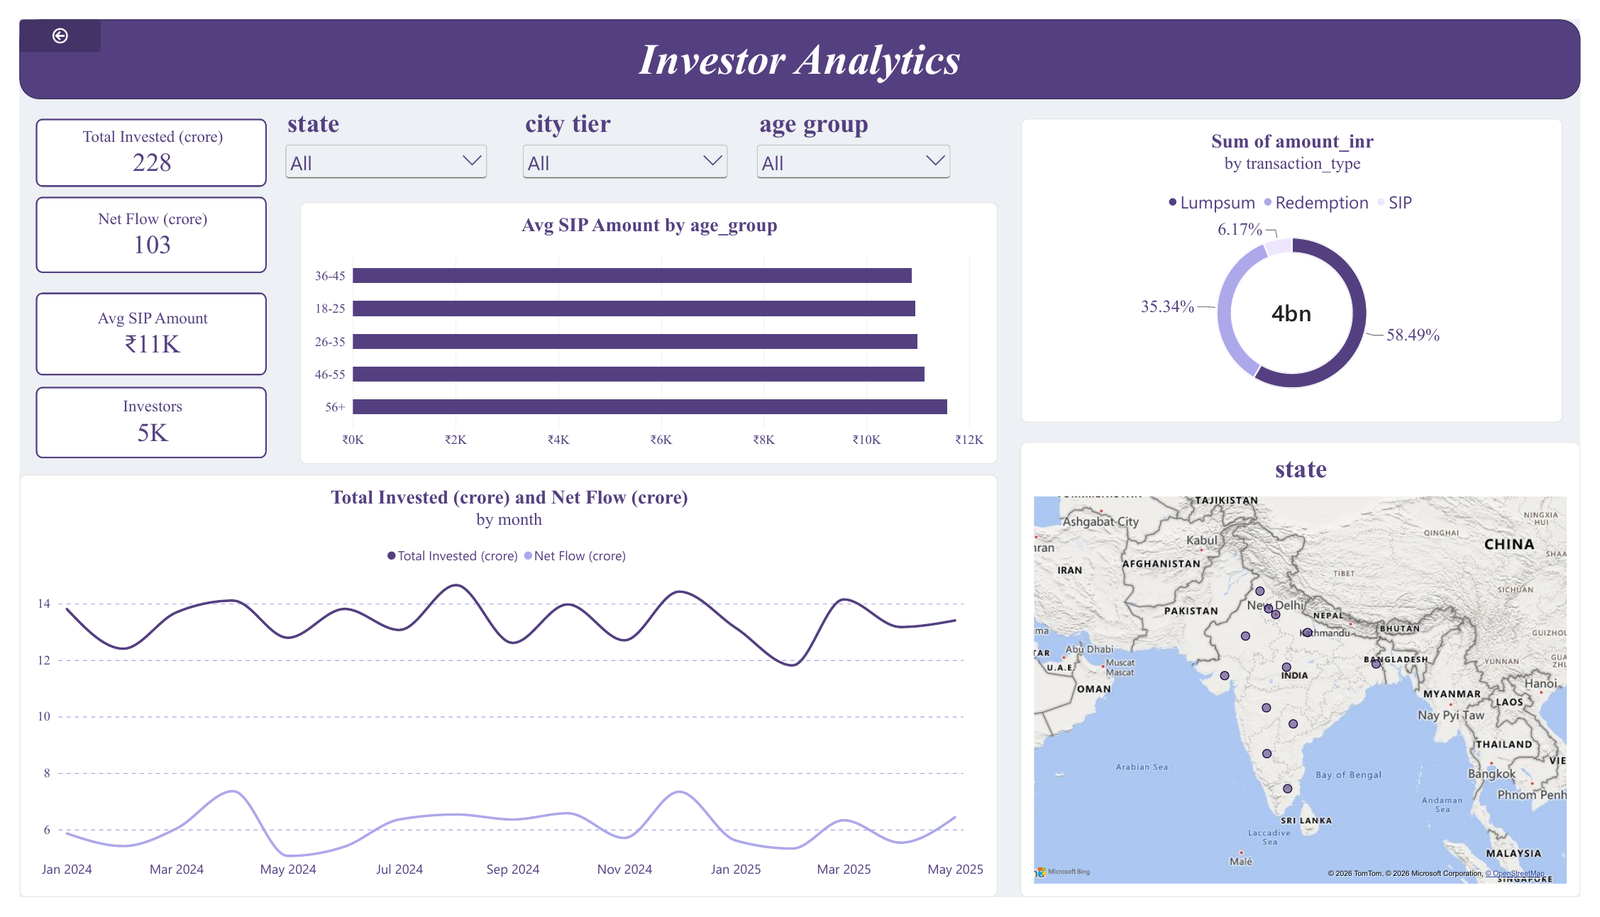

Layout of this report page (visuals, bound fields, positions):
{"tool":"powerbi","page":{"name":" Investor Analytics","canvas":[1920,1080],"ordinal":2},"visuals":[{"type":"shape","title":"Industry Overview","box":[0,0,1920.4,97.7],"z":0},{"type":"slicer","fields":{"Values":["transactions_enriched.state"]},"box":[322,110,258,96],"z":1000},{"type":"slicer","fields":{"Values":["transactions_enriched.age_group"]},"box":[901.7,109.9,248,96],"z":2000},{"type":"slicer","fields":{"Values":["transactions_enriched.city_tier"]},"box":[614,110,262,106],"z":3000},{"type":"actionButton","box":[0,0,100,40],"z":4000},{"type":"cardVisual","title":"Top-10 AMC AUM (lakh crore)","fields":{"Data":["transactions_enriched.Total Invested (crore)"]},"box":[20,122,284,84],"z":4001},{"type":"cardVisual","title":"Top-10 AMC AUM (lakh crore)","fields":{"Data":["transactions_enriched.Net Flow (crore)"]},"box":[20,218,284,94],"z":4002},{"type":"cardVisual","title":"Top-10 AMC AUM (lakh crore)","fields":{"Data":["transactions_enriched.Avg SIP Amount"]},"box":[20,336,284,102],"z":4003},{"type":"cardVisual","title":"Top-10 AMC AUM (lakh crore)","fields":{"Data":["transactions_enriched.Investors"]},"box":[20,452,284,88],"z":4004},{"type":"map","fields":{"Category":["transactions_enriched.state"]},"box":[1231.4,519.8,689,559.9],"z":4005},{"type":"donutChart","fields":{"Category":["transactions_enriched.transaction_type"],"Y":["Sum(transactions_enriched.amount_inr)"]},"box":[1232,122,666,374],"z":4006},{"type":"barChart","fields":{"Category":["transactions_enriched.age_group"],"Y":["transactions_enriched.Avg SIP Amount"]},"box":[345.3,225,858,322],"z":4007},{"type":"lineChart","fields":{"Category":["transactions_enriched.month"],"Y":["transactions_enriched.Total Invested (crore)","transactions_enriched.Net Flow (crore)"]},"box":[0,559.9,1203.5,519.8],"z":4008}]}

Visuals, with their boxes in screenshot pixels (x1, y1, x2, y2), scaled from the page's 1920x1080 canvas onto the 1600x917 screenshot:
"Industry Overview" shape: 0/0/1599/83
slicer - transactions_enriched.state: 268/93/483/175
slicer - transactions_enriched.age_group: 751/93/958/175
slicer - transactions_enriched.city_tier: 512/93/730/183
actionButton: 0/0/83/34
"Top-10 AMC AUM (lakh crore)" cardVisual: 17/104/253/175
"Top-10 AMC AUM (lakh crore)" cardVisual: 17/185/253/265
"Top-10 AMC AUM (lakh crore)" cardVisual: 17/285/253/372
"Top-10 AMC AUM (lakh crore)" cardVisual: 17/384/253/458
map - transactions_enriched.state: 1026/441/1599/916
donutChart - transactions_enriched.transaction_type x Sum(transactions_enriched.amount_inr): 1027/104/1582/421
barChart - transactions_enriched.age_group x transactions_enriched.Avg SIP Amount: 288/191/1003/464
lineChart - transactions_enriched.month x transactions_enriched.Total Invested (crore): 0/475/1003/916
